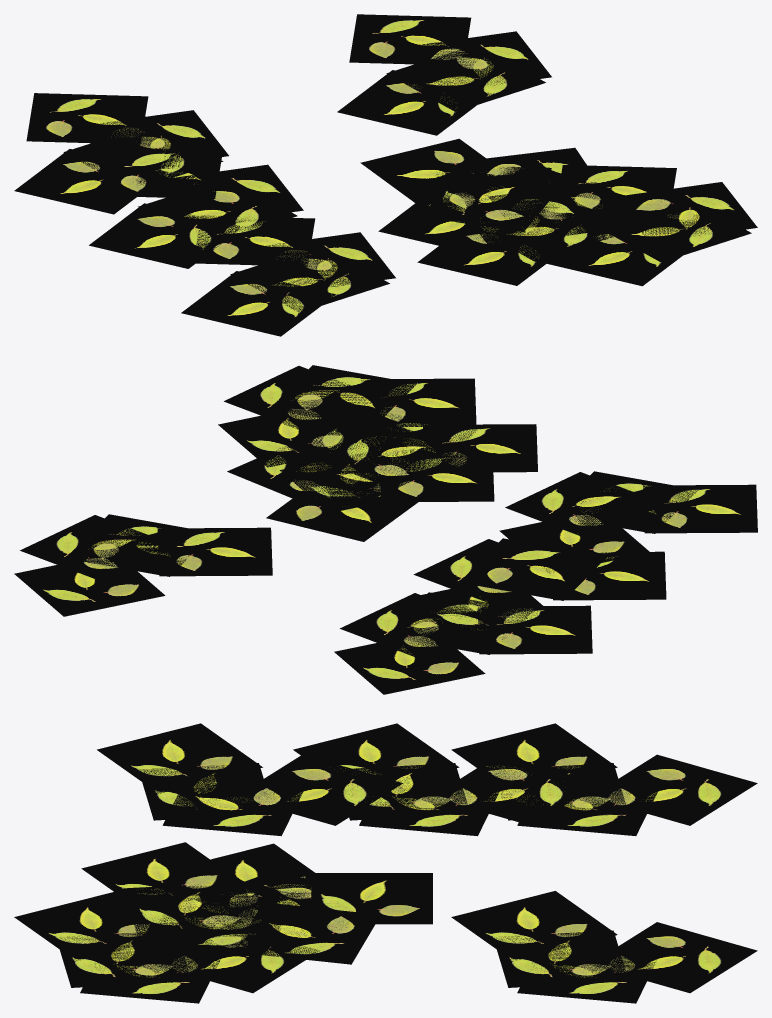
File: Obj02_Reaf.fbx
3 renders of one model, top to bottom at view 1: azimuth 30°, elevation 25°; view 2: azimuth 150°, elevation 25°; view 3: azimuth 270°, elevation 25°, orthographic. The views are drawn at different scales.
Visible parts, largest first — view 1: Obj02_Reaf; view 2: Obj02_Reaf; view 3: Obj02_Reaf.
Part boxes in pixels (<box>): Obj02_Reaf: <box>14,14,757,336</box>; Obj02_Reaf: <box>14,365,757,694</box>; Obj02_Reaf: <box>14,723,757,1003</box>.
Size of the model in its own units: 2.92 by 0 by 3.28.
